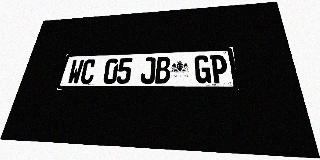0: (102, 58, 119, 84)
5: (116, 58, 133, 84)
B: (155, 57, 170, 84)
C: (79, 59, 97, 84)
G: (194, 55, 211, 83)
J: (140, 57, 156, 84)
P: (210, 55, 229, 83)
W: (66, 60, 84, 84)
